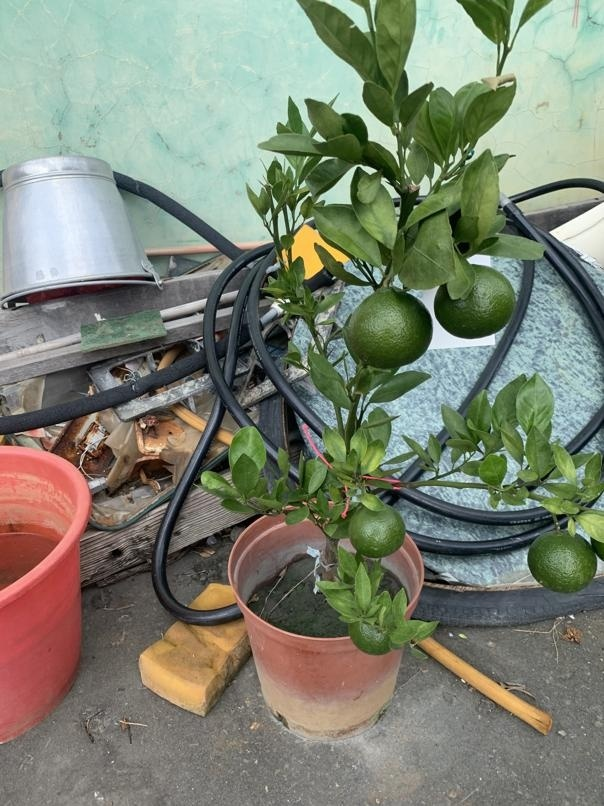Tangerine: (343, 284, 434, 369), (434, 267, 516, 341), (528, 526, 599, 596), (346, 499, 407, 559)
